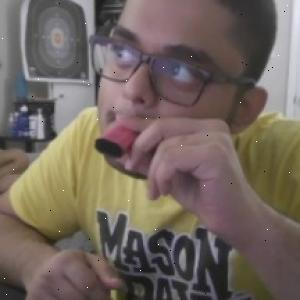Blume-E-Ciggirate: (92, 115, 142, 161)
